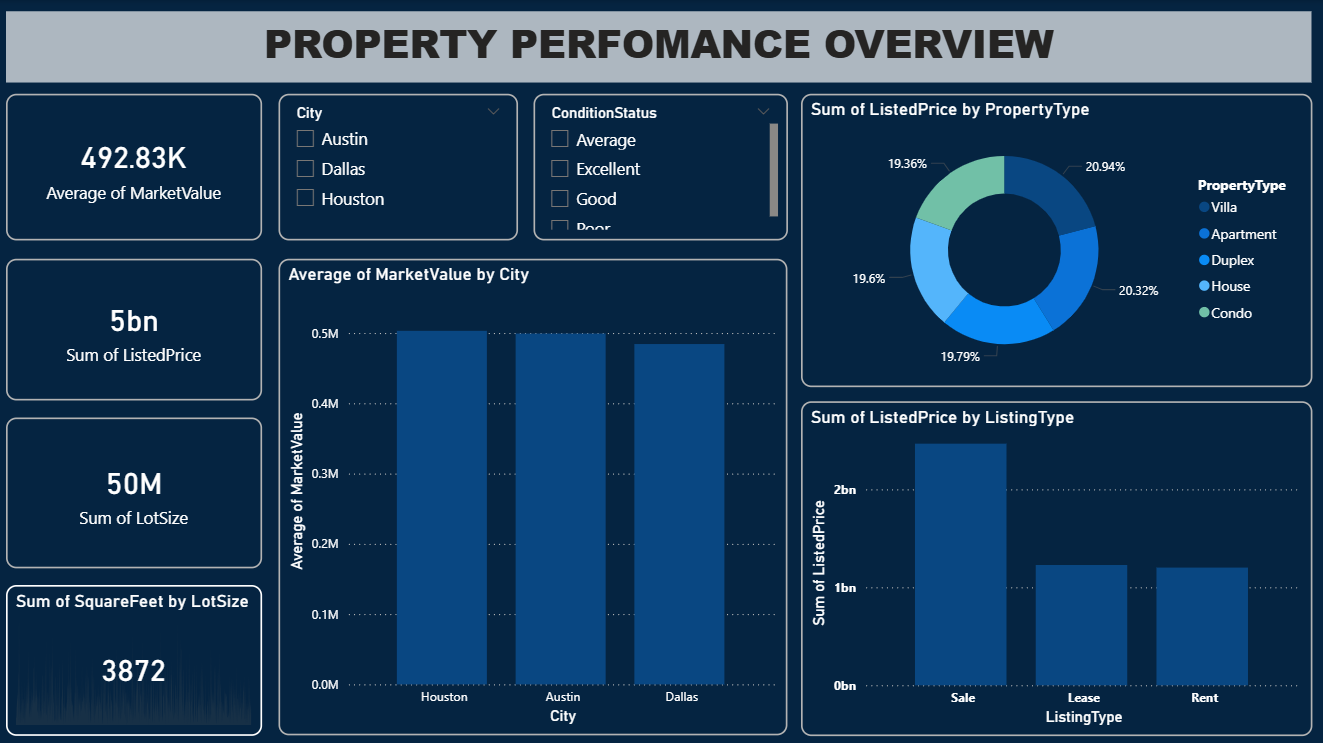

The page's visual inventory and layout, read from the dashboard file:
{"tool":"powerbi","page":{"name":"PROPERTY 1","canvas":[1280,720],"ordinal":0},"visuals":[{"type":"card","fields":{"Values":["Sum(Properties.ListedPrice)"]},"box":[10,250,247.1,137.1],"z":0},{"type":"textbox","box":[10,11.4,1260,68.6],"z":1000},{"type":"card","fields":{"Values":["Sum(Properties.LotSize)"]},"box":[10,402.9,247.1,145.7],"z":2000},{"type":"card","fields":{"Values":["Avg(Properties.MarketValue)"]},"box":[10,90,247.1,141.4],"z":3000},{"type":"columnChart","fields":{"Category":["Properties.ListingType"],"Y":["Sum(Properties.ListedPrice)"]},"box":[776.7,386.7,493.3,323.3],"z":4000},{"type":"donutChart","fields":{"Category":["Properties.PropertyType"],"Y":["Sum(Properties.ListedPrice)"]},"box":[776.7,90,493.3,283.3],"z":5000},{"type":"slicer","fields":{"Values":["Properties.City"]},"box":[272.9,90,231.4,141.4],"z":6000},{"type":"slicer","fields":{"Values":["Properties.ConditionStatus"]},"box":[518.6,90,245.7,141.4],"z":7000},{"type":"kpi","fields":{"Indicator":["Sum(Properties.SquareFeet)"],"TrendLine":["Properties.LotSize"]},"box":[10,564.3,247.1,145.7],"z":8000},{"type":"columnChart","fields":{"Category":["Properties.City"],"Y":["Avg(Properties.MarketValue)"]},"box":[272.9,250,491.4,460],"z":9000}]}

Visuals, with their boxes in screenshot pixels (x1, y1, x2, y2), scaled from the page's 1280x720 canvas onto the 1323x743 screenshot:
card - Sum(Properties.ListedPrice): l=10, t=258, r=266, b=399
textbox: l=10, t=12, r=1313, b=83
card - Sum(Properties.LotSize): l=10, t=416, r=266, b=566
card - Avg(Properties.MarketValue): l=10, t=93, r=266, b=239
columnChart - Properties.ListingType x Sum(Properties.ListedPrice): l=803, t=399, r=1313, b=733
donutChart - Properties.PropertyType x Sum(Properties.ListedPrice): l=803, t=93, r=1313, b=385
slicer - Properties.City: l=282, t=93, r=521, b=239
slicer - Properties.ConditionStatus: l=536, t=93, r=790, b=239
kpi - Sum(Properties.SquareFeet) x Properties.LotSize: l=10, t=582, r=266, b=733
columnChart - Properties.City x Avg(Properties.MarketValue): l=282, t=258, r=790, b=733
